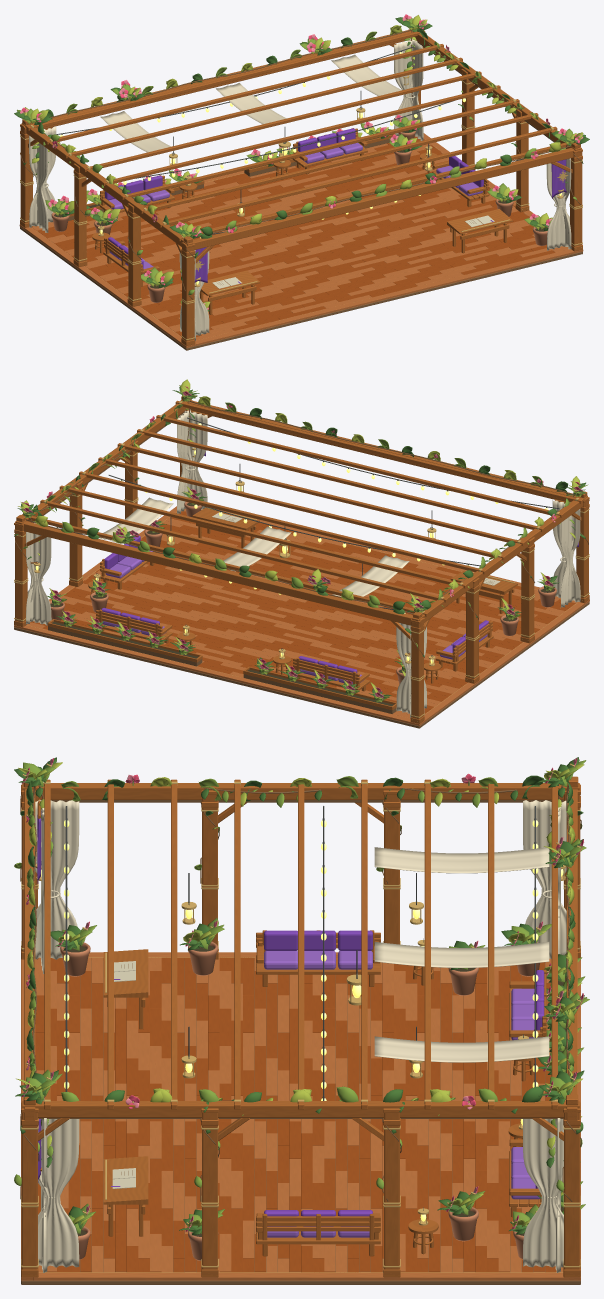
The model's file is dance-pavilion-v1.glb.
3 views of the same model, one above another, from view 1: azimuth 30°, elevation 25°; view 2: azimuth 150°, elevation 25°; view 3: azimuth 270°, elevation 25° (orthographic). The views are drawn at different scales.
Parts seen in each view (by area): view 1: DancePavilion_End_Primary_Beam_7.75, DancePavilion_Perimeter_Long_Border_7.82, DancePavilion_End_Primary_Beam_-7.75, DancePavilion_Open_Pergola_Rafter_02, DancePavilion_Open_Pergola_Rafter_05, DancePavilion_Open_Pergola_Rafter_07, DancePavilion_Open_Pergola_Rafter_04, DancePavilion_Open_Pergola_Rafter_01, DancePavilion_Open_Pergola_Rafter_00, DancePavilion_Open_Pergola_Rafter_06, DancePavilion_Open_Pergola_Rafter_03, DancePavilion_Deck_Structure (+25 smaller); view 2: DancePavilion_End_Primary_Beam_-7.75, DancePavilion_Perimeter_Long_Border_-7.82, DancePavilion_End_Primary_Beam_7.75, DancePavilion_Open_Pergola_Rafter_03, DancePavilion_Open_Pergola_Rafter_06, DancePavilion_Open_Pergola_Rafter_08, DancePavilion_Open_Pergola_Rafter_05, DancePavilion_Open_Pergola_Rafter_01, DancePavilion_Open_Pergola_Rafter_04, DancePavilion_Open_Pergola_Rafter_02, DancePavilion_Open_Pergola_Rafter_07, DancePavilion_Side_Primary_Beam_-1 (+29 smaller); view 3: DancePavilion_Side_Primary_Beam_1, DancePavilion_Deck_Structure, DancePavilion_Side_Primary_Beam_-1, DancePavilion_Perimeter_End_Border_10.82, DancePavilion_Tied_Curtain_1_-1_side, DancePavilion_Tied_Curtain_1_1_side, DancePavilion_Tied_Curtain_-1_1_side, DancePavilion_Sparse_Rear_Sail_2, DancePavilion_Sparse_Rear_Sail_0, DancePavilion_Sparse_Rear_Sail_1, DancePavilion_Tied_Curtain_-1_-1_side, DancePavilion_Post_East_3_Shaft (+30 smaller).
Boxes of the visible parts, box(x1,y1,x2,y2) form: DancePavilion_End_Primary_Beam_7.75: box(182, 147, 581, 251); DancePavilion_Perimeter_Long_Border_7.82: box(182, 249, 583, 347); DancePavilion_End_Primary_Beam_-7.75: box(21, 29, 412, 133); DancePavilion_Open_Pergola_Rafter_02: box(64, 57, 462, 158); DancePavilion_Open_Pergola_Rafter_05: box(121, 99, 519, 199); DancePavilion_Open_Pergola_Rafter_07: box(159, 126, 557, 227); DancePavilion_Open_Pergola_Rafter_04: box(102, 85, 500, 185); DancePavilion_Open_Pergola_Rafter_01: box(45, 44, 443, 144); DancePavilion_Open_Pergola_Rafter_00: box(27, 30, 425, 130); DancePavilion_Open_Pergola_Rafter_06: box(140, 113, 538, 213); DancePavilion_Open_Pergola_Rafter_03: box(83, 71, 481, 172); DancePavilion_Deck_Structure: box(20, 226, 582, 350); DancePavilion_End_Primary_Beam_-7.75: box(15, 521, 423, 627); DancePavilion_Perimeter_Long_Border_-7.82: box(14, 625, 423, 725); DancePavilion_End_Primary_Beam_7.75: box(180, 400, 588, 506); DancePavilion_Open_Pergola_Rafter_03: box(79, 471, 486, 574); DancePavilion_Open_Pergola_Rafter_06: box(137, 429, 543, 531); DancePavilion_Open_Pergola_Rafter_08: box(175, 400, 582, 503); DancePavilion_Open_Pergola_Rafter_05: box(117, 443, 524, 546); DancePavilion_Open_Pergola_Rafter_01: box(40, 499, 447, 602); DancePavilion_Open_Pergola_Rafter_04: box(98, 457, 505, 560); DancePavilion_Open_Pergola_Rafter_02: box(59, 485, 466, 588); DancePavilion_Open_Pergola_Rafter_07: box(156, 415, 563, 517); DancePavilion_Side_Primary_Beam_-1: box(412, 495, 587, 622); DancePavilion_Side_Primary_Beam_1: box(22, 1101, 579, 1117); DancePavilion_Deck_Structure: box(21, 961, 580, 1284); DancePavilion_Side_Primary_Beam_-1: box(22, 783, 579, 799); DancePavilion_Perimeter_End_Border_10.82: box(33, 1272, 568, 1280); DancePavilion_Tied_Curtain_1_-1_side: box(523, 1119, 563, 1267); DancePavilion_Tied_Curtain_1_1_side: box(38, 1119, 79, 1267); DancePavilion_Tied_Curtain_-1_1_side: box(35, 800, 79, 959); DancePavilion_Sparse_Rear_Sail_2: box(374, 1036, 549, 1062); DancePavilion_Sparse_Rear_Sail_0: box(374, 847, 549, 873); DancePavilion_Sparse_Rear_Sail_1: box(374, 942, 549, 967); DancePavilion_Tied_Curtain_-1_-1_side: box(523, 800, 566, 959); DancePavilion_Post_East_3_Shaft: box(21, 1113, 37, 1269).
Size of the model in its own units: 22.77 by 6.48 by 16.46.
Materials: 18 (4 with a texture image).
